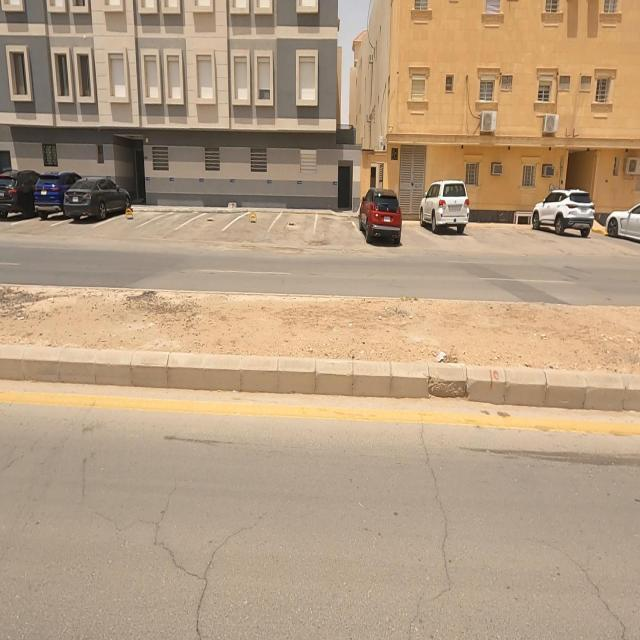debris: (404, 316, 476, 389)
